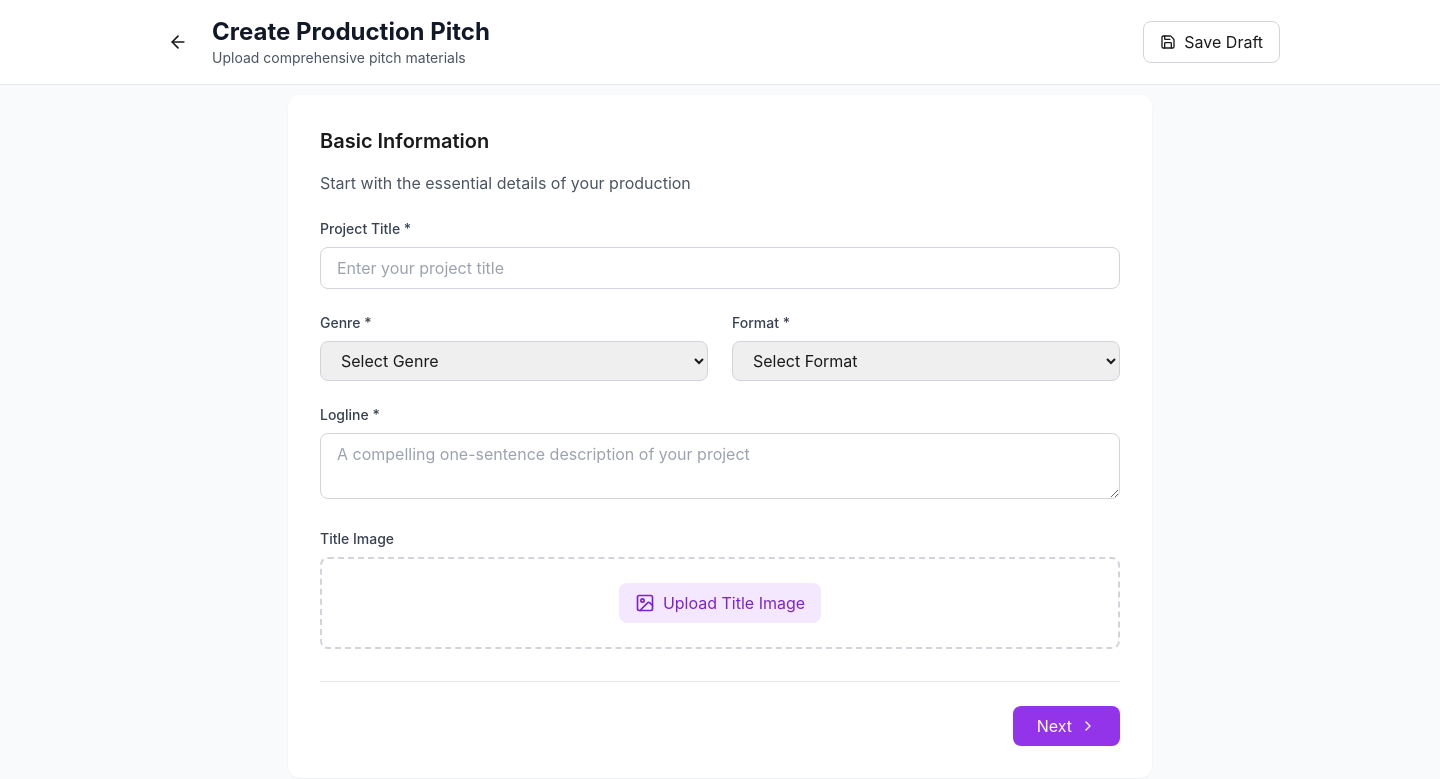
Test: ProductionPitchCreate › Step 1: Basic Information › shows validation errors when Next is clicked with empty fields
(page scrolled)
Click the button "Next" at (1066, 726), box [1013,706,1120,746]
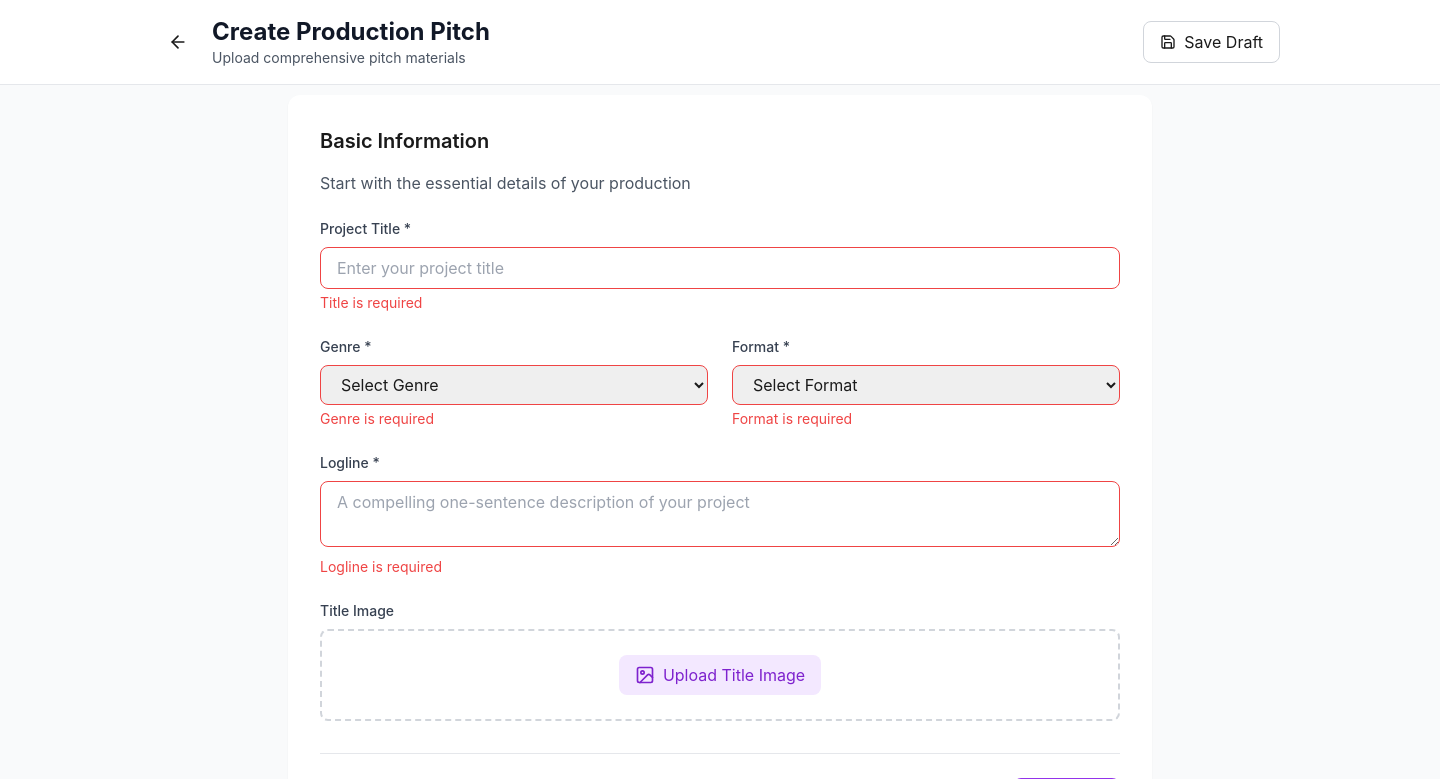
Expected: the text "Title is required" is shown, [320,294,422,311]
Expected: the text "Genre is required" is shown, [320,410,434,427]
Expected: the text "Format is required" is shown, [732,410,852,427]
